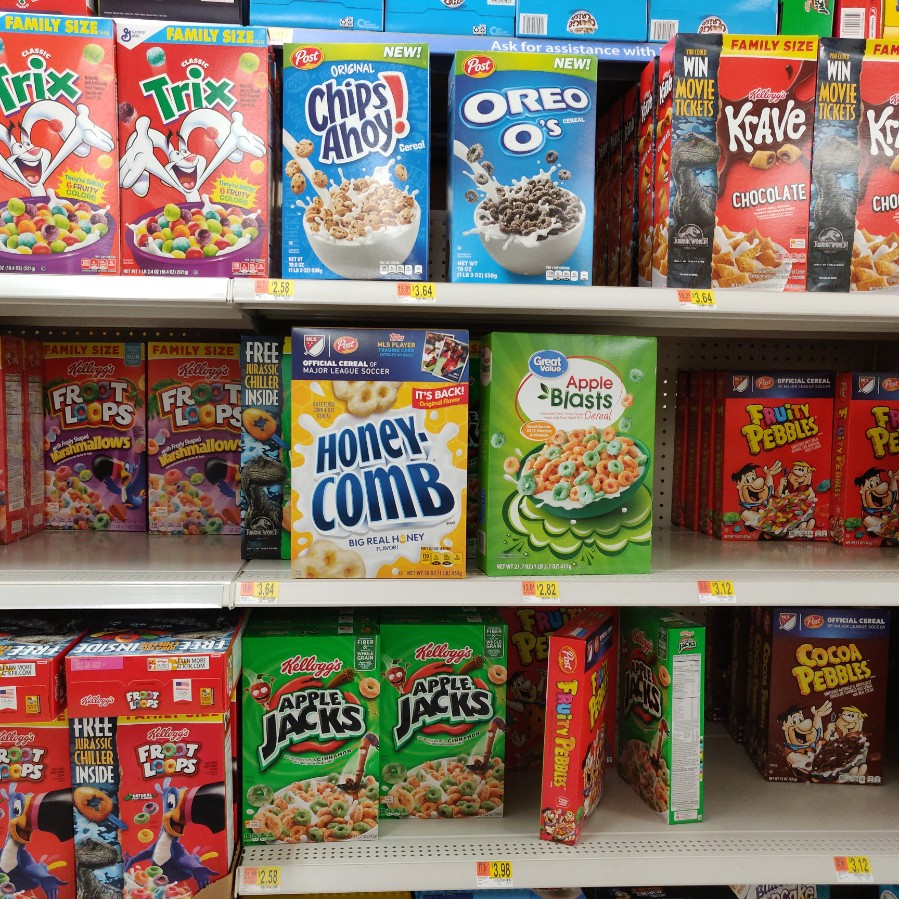Chips Ahoys-565717529: (279, 33, 434, 276)
Honey Comb- 009288857: (286, 327, 470, 579)
Oreo-563424384: (447, 45, 603, 294)
